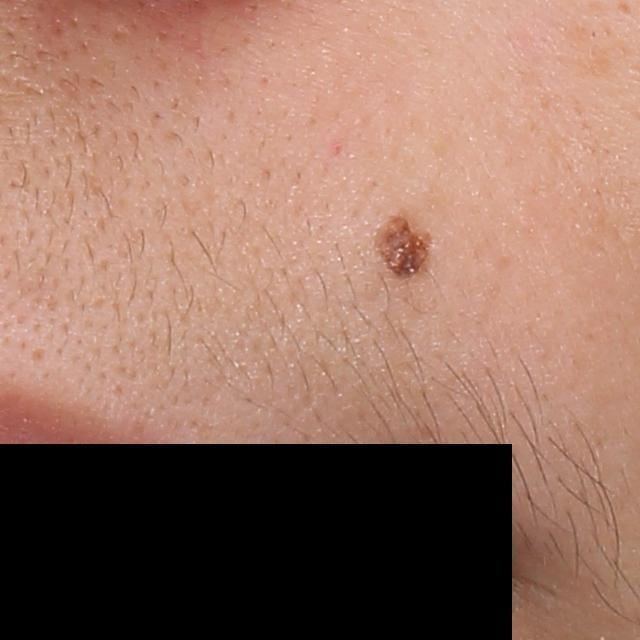nevus: (371, 209, 436, 286)
